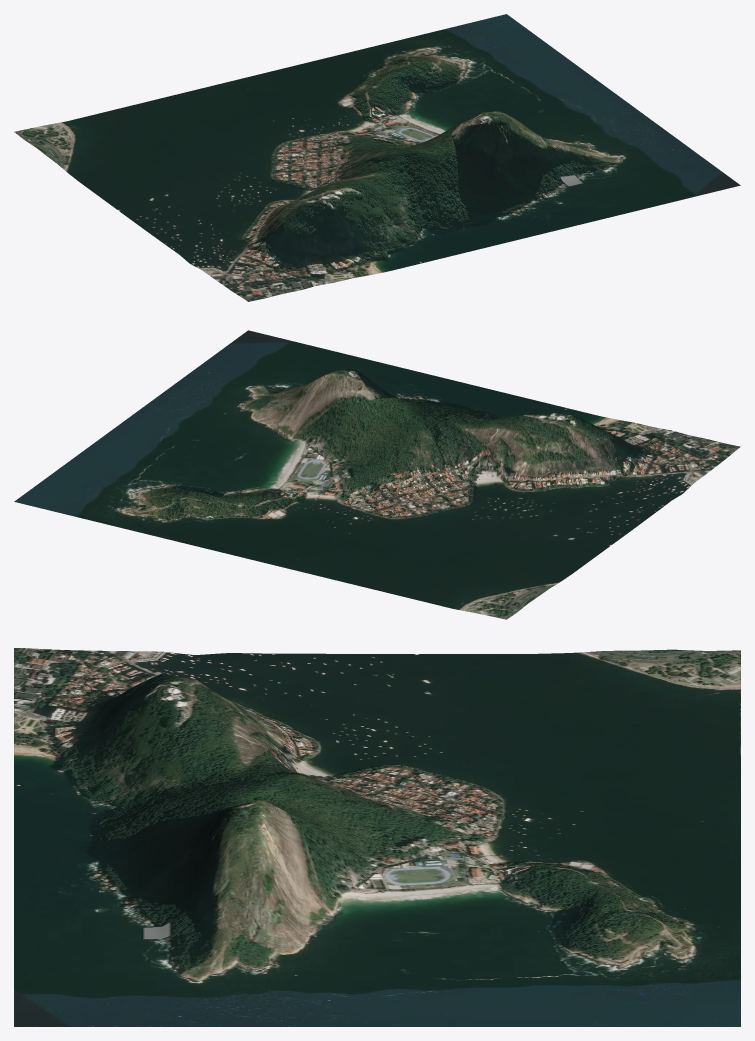
The model's file is pain-de-sucre.glb.
The picture shows the model from 3 angles, top to bottom: view 1: azimuth 30°, elevation 25°; view 2: azimuth 150°, elevation 25°; view 3: azimuth 270°, elevation 25°; orthographic projection. The views are drawn at different scales.
Parts seen in each view (by area): view 1: Object_2; view 2: Object_2; view 3: Object_2.
Part boxes in pixels (bbox=[...]): Object_2: bbox=[14, 14, 740, 301]; Object_2: bbox=[14, 330, 740, 619]; Object_2: bbox=[14, 648, 740, 1026].
Bounding box in the file's own units: 1 × 0.1127 × 0.8236.
1 material, 1 textured.
